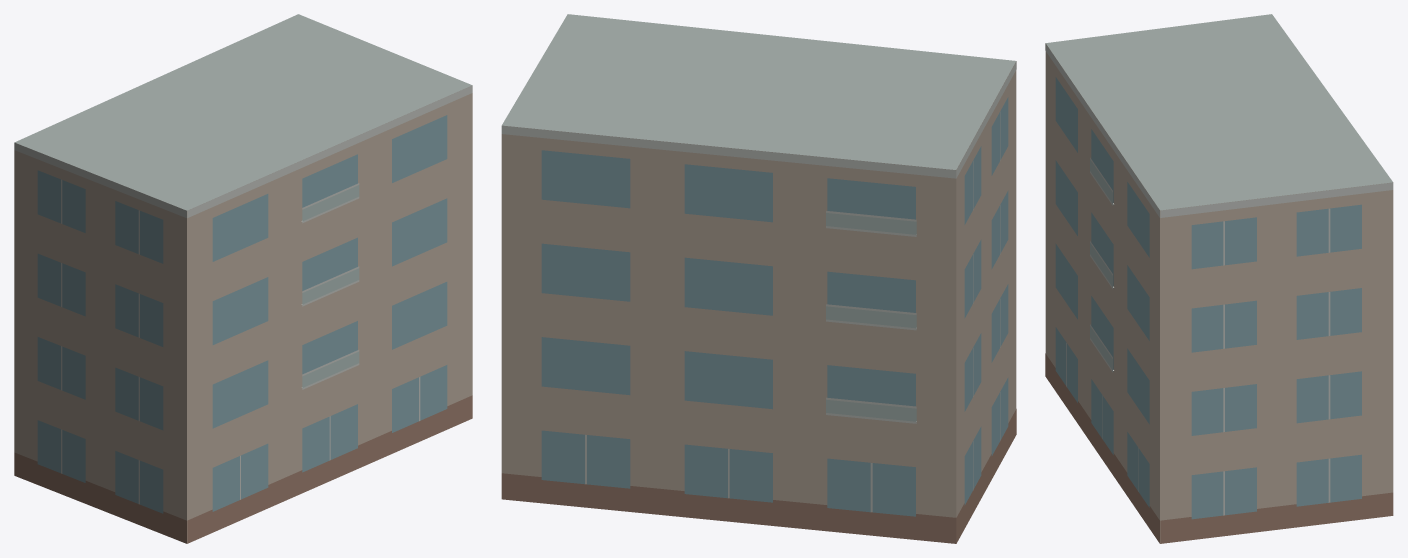
File: survey-upis-33029905.glb
3 renders of one model, left to right at view 1: azimuth 30°, elevation 25°; view 2: azimuth 150°, elevation 25°; view 3: azimuth 270°, elevation 25°, orthographic. The views are drawn at different scales.
Visible parts, largest first — view 1: survey-upis-33029905.tmp; view 2: survey-upis-33029905.tmp; view 3: survey-upis-33029905.tmp.
Boxes of the visible parts, bbox=[...] form: survey-upis-33029905.tmp: bbox=[14, 14, 472, 543]; survey-upis-33029905.tmp: bbox=[501, 14, 1016, 543]; survey-upis-33029905.tmp: bbox=[1045, 14, 1393, 543].
Size of the model in its own units: 13.53 by 10.7 by 10.13.
